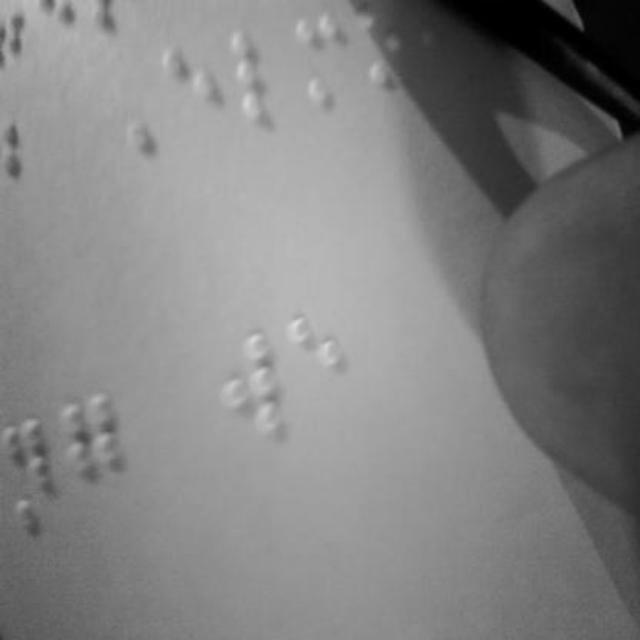braiile: (56, 388, 130, 528), (217, 324, 287, 448), (284, 302, 352, 428), (1, 393, 54, 537), (163, 35, 230, 147), (228, 20, 294, 130), (294, 8, 352, 120)
